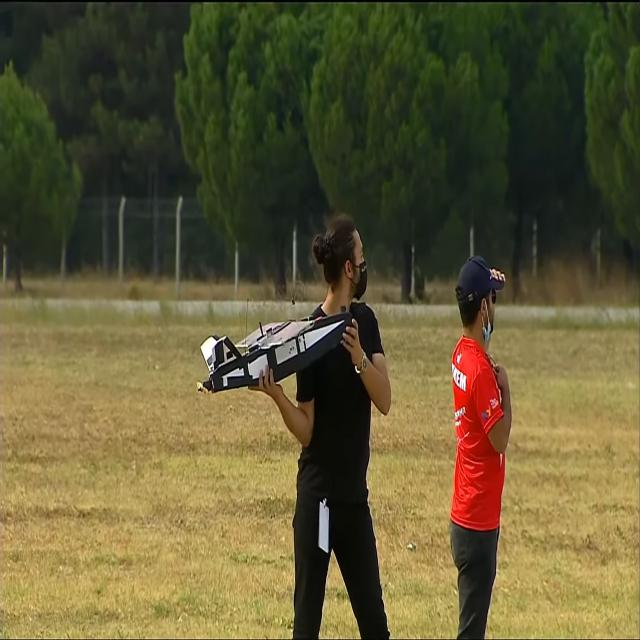iha: (195, 338, 348, 364)
